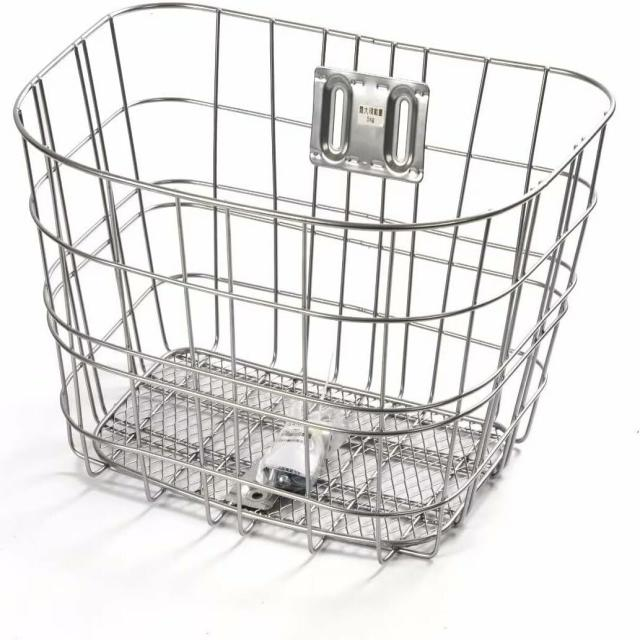basket: (13, 2, 614, 570)
